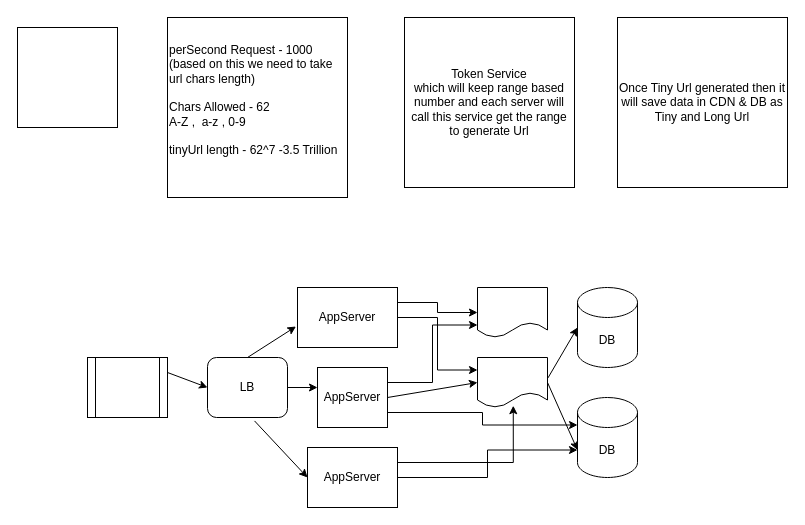
Some shapes in this 805 by 525 pixel diagram are drawn without their labels. Here are the shapes that lost their labels. From the top down, the box of each, then its label:
(16, 26, 118, 128): generateShortUrl getLongUrl
(476, 286, 548, 338): Cache
(86, 356, 168, 418): Client
(476, 356, 548, 408): TokenService
